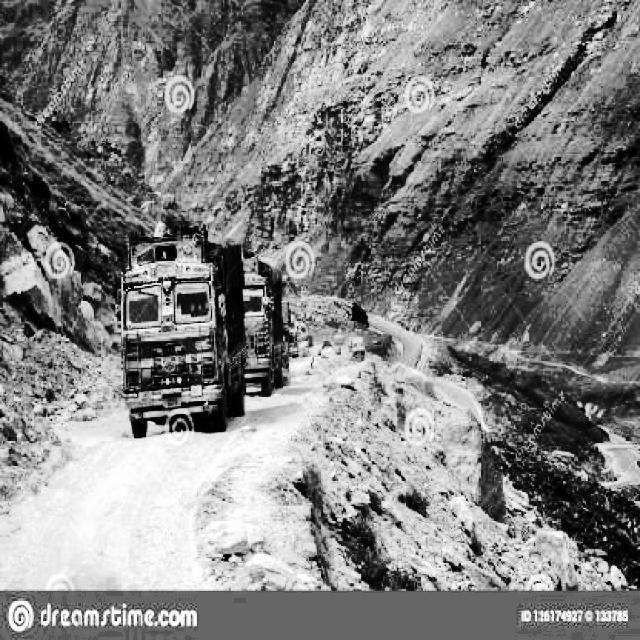HCV: (129, 240, 247, 412), (223, 259, 290, 386)
